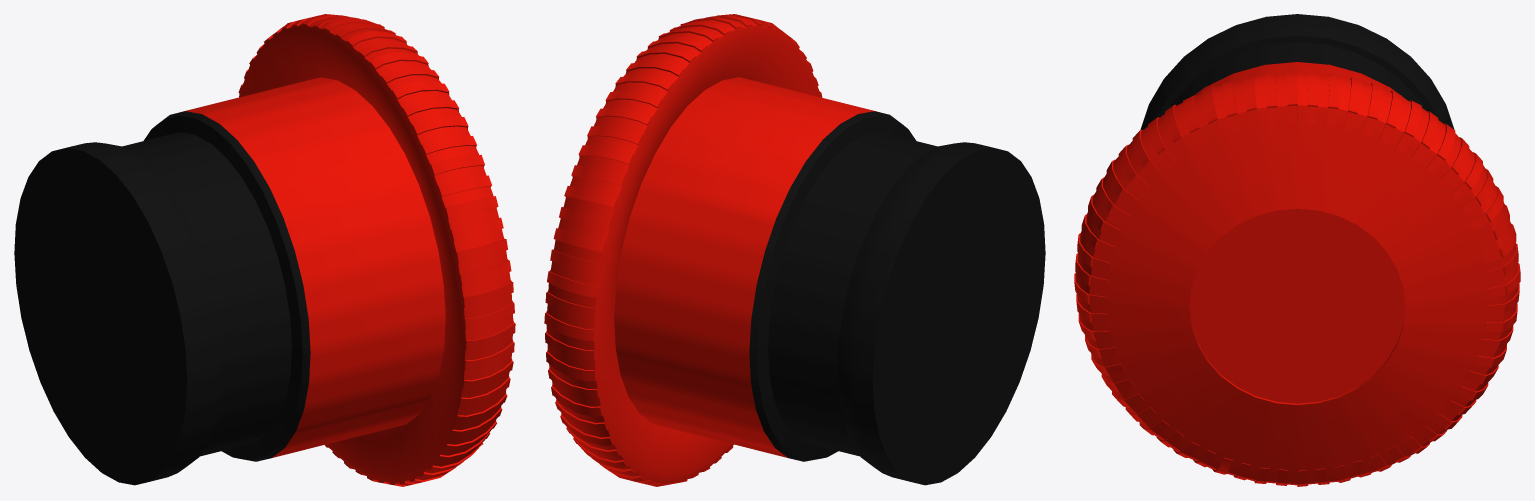
The model's file is EmergencyButton.fbx.
3 views of the same model, side by side, from view 1: azimuth 30°, elevation 25°; view 2: azimuth 150°, elevation 25°; view 3: azimuth 270°, elevation 25° (orthographic). The views are drawn at different scales.
Visible parts, largest first — view 1: Button, Bottom; view 2: Button, Bottom; view 3: Button, Bottom.
Boxes of the visible parts, x1,y1,x2,y2 form: Button: [154, 14, 515, 486]; Bottom: [14, 117, 291, 485]; Button: [544, 14, 916, 486]; Bottom: [749, 132, 1045, 485]; Button: [1074, 61, 1520, 486]; Bottom: [1140, 14, 1454, 129].
Size of the model in its own units: 0.1432 by 0.1805 by 0.1804.
